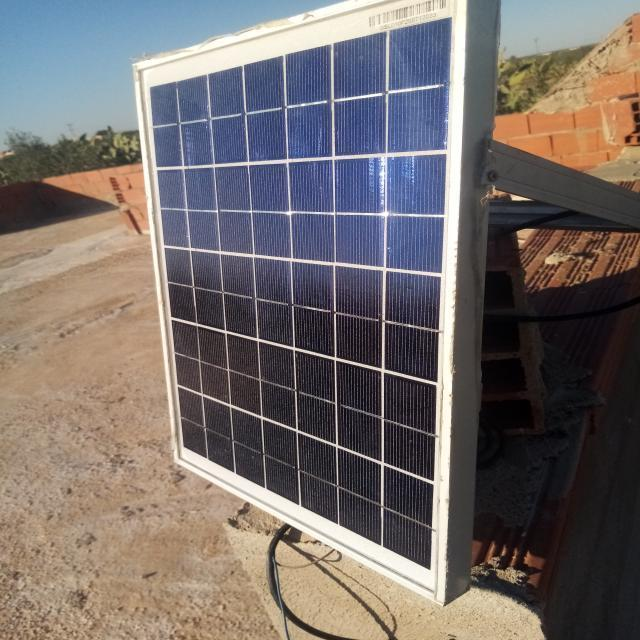Normal Solar Panel: (131, 0, 466, 600)
